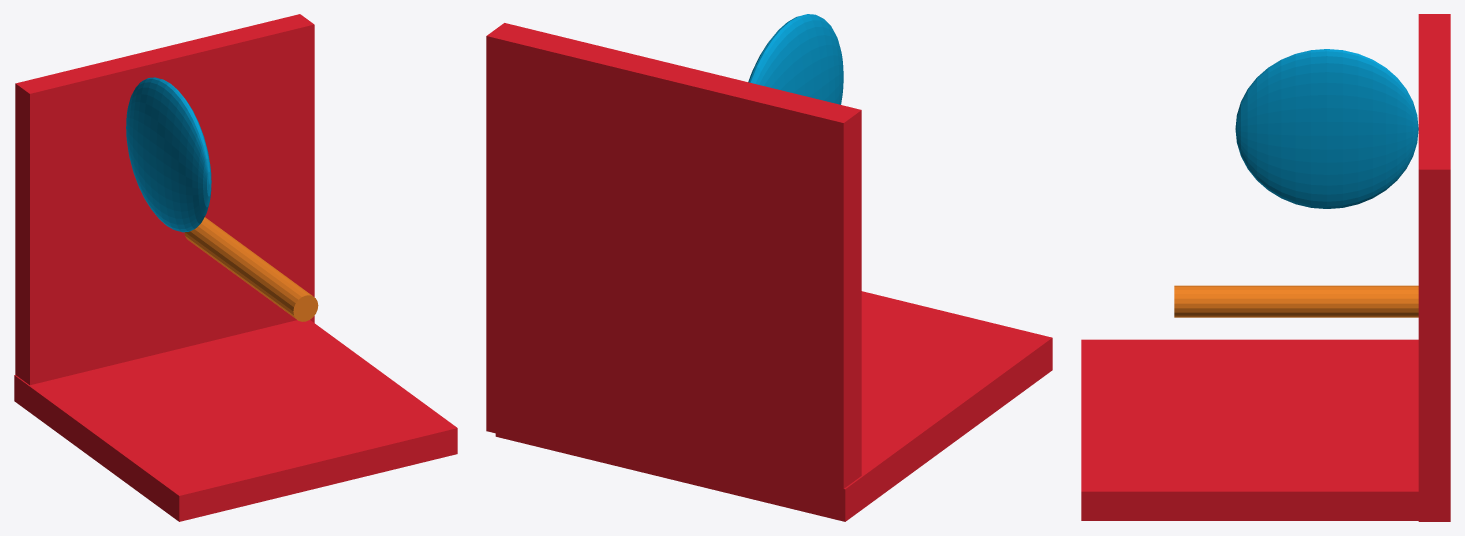
File: map1.obj
3 renders of one model, left to right at view 1: azimuth 30°, elevation 25°; view 2: azimuth 150°, elevation 25°; view 3: azimuth 270°, elevation 25°, orthographic. The views are drawn at different scales.
Visible parts, largest first — view 1: group_0_15277357, group_0_40919, group_0_16089887; view 2: group_0_15277357, group_0_40919; view 3: group_0_15277357, group_0_40919, group_0_16089887.
Part boxes in pixels (x1,y1,x2,y2): group_0_15277357: (14,14,457,521); group_0_40919: (126,77,211,232); group_0_16089887: (184,217,318,321); group_0_15277357: (486,23,1052,521); group_0_40919: (748,14,843,104); group_0_15277357: (1081,14,1450,521); group_0_40919: (1235,49,1418,208); group_0_16089887: (1174,285,1418,317).
Bounding box in the file's own units: 230 × 257 × 230.
